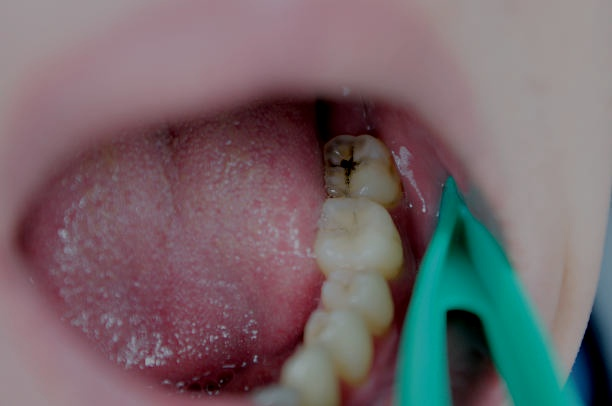Caries: (321, 129, 372, 201)
